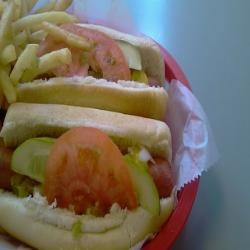fries: (1, 3, 42, 81)
hotdog: (5, 104, 171, 241), (25, 26, 167, 113)
